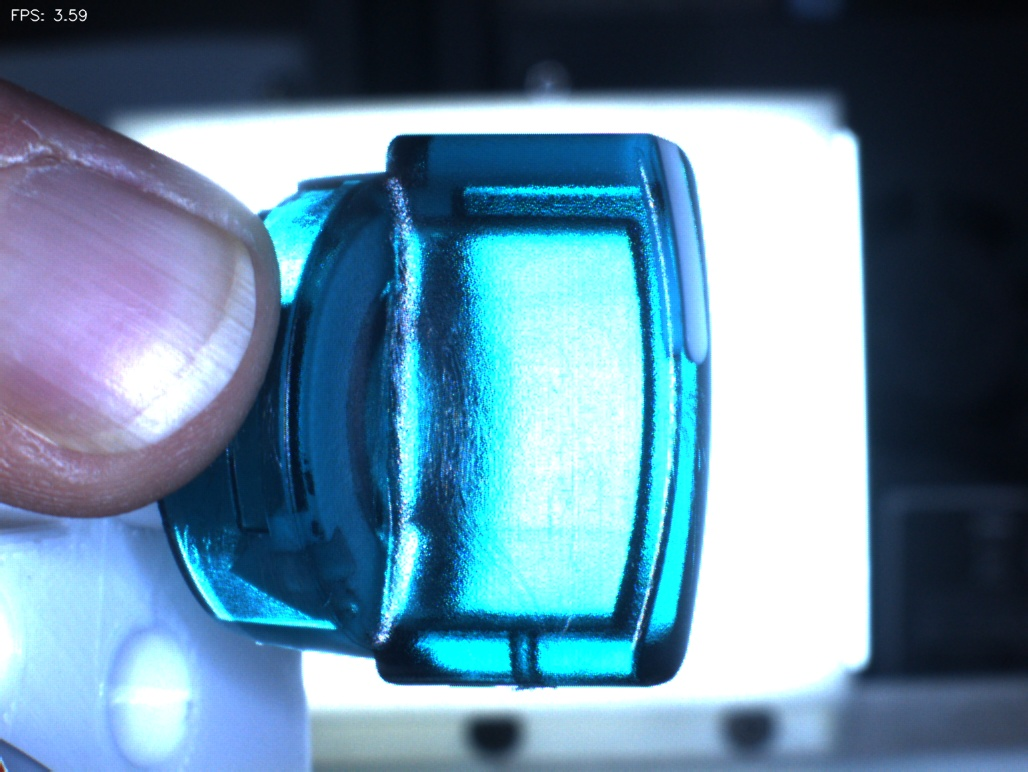Bulle: (483, 593, 568, 715)
